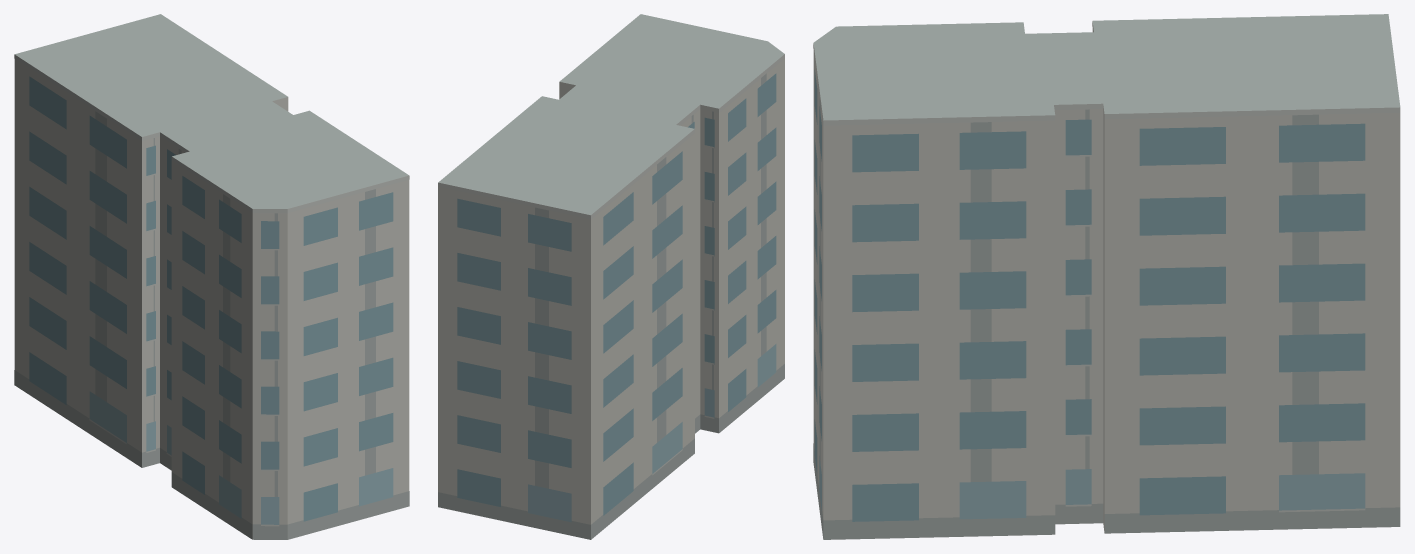
Rendered from survey-upis-32726836.glb.
3 renders of one model, left to right at view 1: azimuth 30°, elevation 25°; view 2: azimuth 150°, elevation 25°; view 3: azimuth 270°, elevation 25°, orthographic. The views are drawn at different scales.
Parts seen in each view (by area): view 1: survey-upis-32726836.tmp; view 2: survey-upis-32726836.tmp; view 3: survey-upis-32726836.tmp.
Boxes of the visible parts, x1,y1,x2,y2 form: survey-upis-32726836.tmp: [14, 14, 409, 539]; survey-upis-32726836.tmp: [438, 14, 784, 539]; survey-upis-32726836.tmp: [813, 14, 1400, 539].
Bounding box in the file's own units: 10.33 × 18.95 × 24.04.
